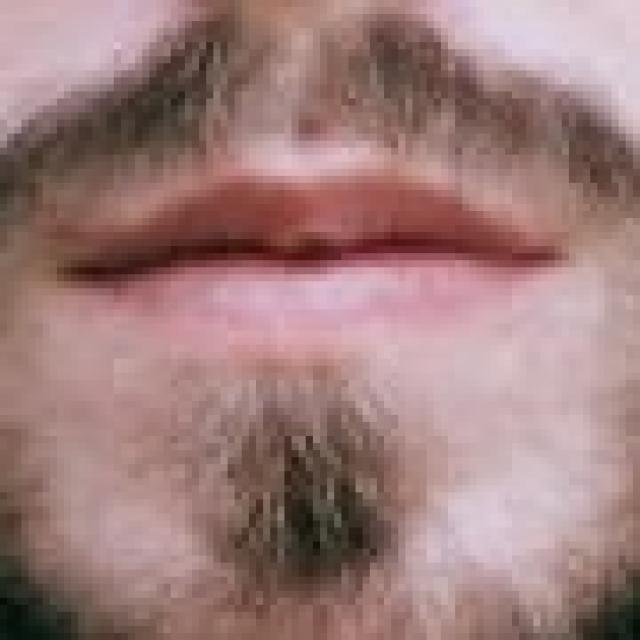closed-mouth: (43, 154, 569, 350)
